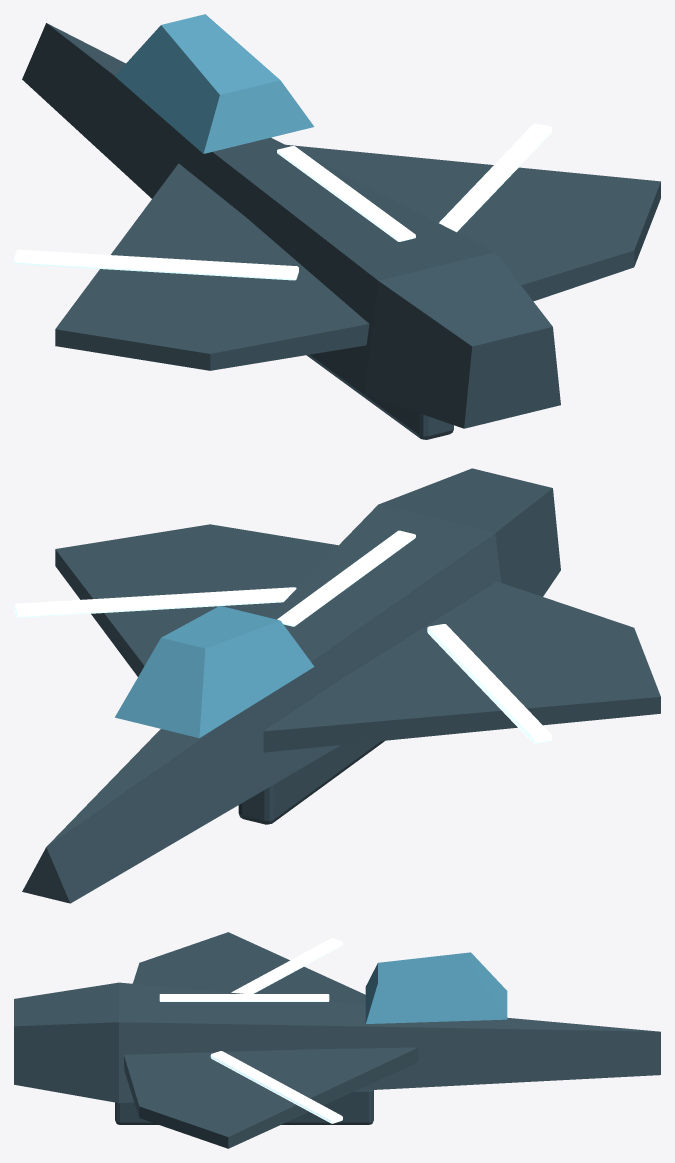
Rendered from raptor.glb.
3 views of the same model, one above another, from view 1: azimuth 30°, elevation 25°; view 2: azimuth 150°, elevation 25°; view 3: azimuth 270°, elevation 25° (orthographic). The views are drawn at different scales.
Parts seen in each view (by area): view 1: FighterFuselage, SweptWing, SweptWing_R, CanopyOrSensorShroud, InterceptorLeadingEdge, InterceptorLeadingEdge_R, CraftRecognitionMark, VentralKeel; view 2: FighterFuselage, SweptWing, SweptWing_R, CanopyOrSensorShroud, InterceptorLeadingEdge_R, VentralKeel, InterceptorLeadingEdge, CraftRecognitionMark; view 3: FighterFuselage, SweptWing_R, CanopyOrSensorShroud, SweptWing, VentralKeel, InterceptorLeadingEdge_R, InterceptorLeadingEdge, CraftRecognitionMark.
Boxes of the visible parts, <box> form: FighterFuselage: <box>22,23,560,428</box>; SweptWing: <box>55,163,369,370</box>; SweptWing_R: <box>285,144,660,301</box>; CanopyOrSensorShroud: <box>115,14,314,153</box>; InterceptorLeadingEdge: <box>14,249,298,280</box>; InterceptorLeadingEdge_R: <box>439,123,551,232</box>; CraftRecognitionMark: <box>277,146,415,241</box>; VentralKeel: <box>306,353,453,439</box>; FighterFuselage: <box>22,468,560,903</box>; SweptWing: <box>263,581,660,752</box>; SweptWing_R: <box>55,524,338,676</box>; CanopyOrSensorShroud: <box>115,606,314,738</box>; InterceptorLeadingEdge_R: <box>14,587,296,617</box>; VentralKeel: <box>238,740,384,824</box>; InterceptorLeadingEdge: <box>427,624,551,743</box>; CraftRecognitionMark: <box>277,530,415,626</box>; FighterFuselage: <box>14,982,660,1103</box>; SweptWing_R: <box>124,1047,418,1148</box>; CanopyOrSensorShroud: <box>365,952,507,1023</box>; SweptWing: <box>133,932,365,1004</box>; VentralKeel: <box>115,1090,373,1124</box>; InterceptorLeadingEdge_R: <box>210,1051,342,1123</box>; InterceptorLeadingEdge: <box>231,938,342,993</box>; CraftRecognitionMark: <box>159,994,329,1001</box>.
Bounding box in the file's own units: 6 × 2.2 × 8.
